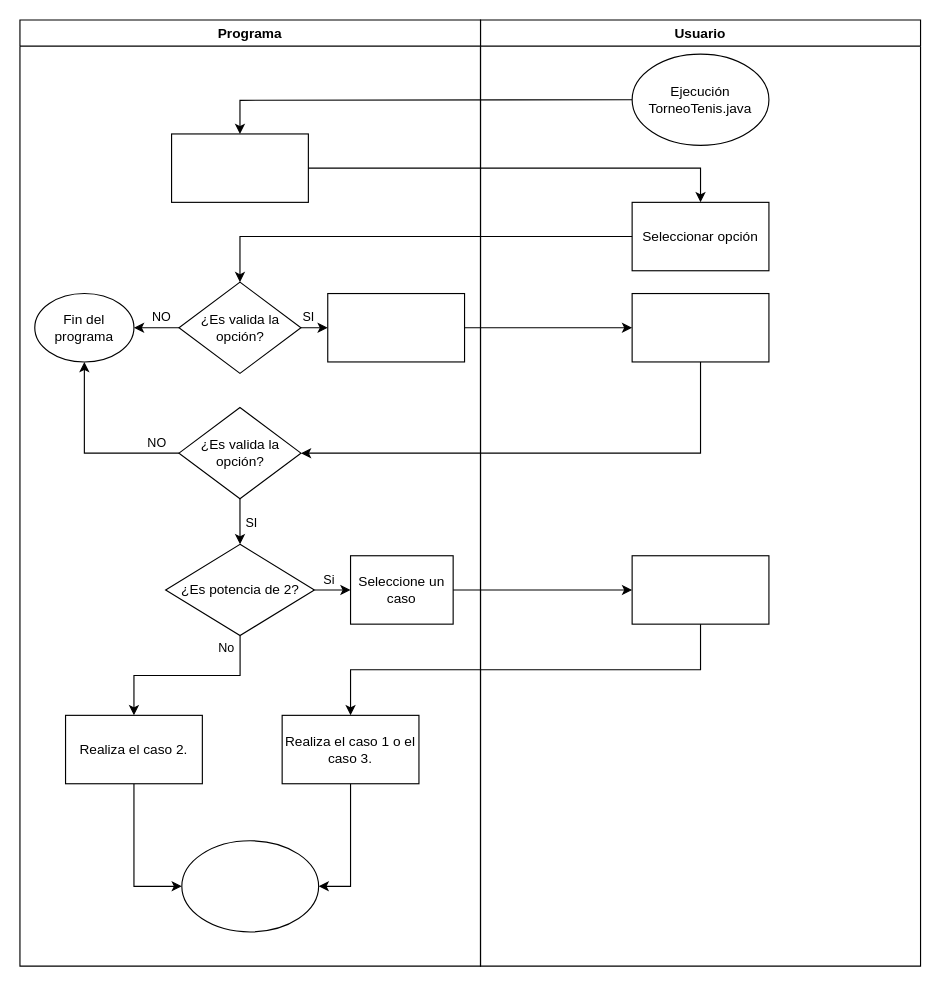
This 941x986 diagram has some shape labels left out. Here are the shapes that lost their labels. From the top down, the box of each, then its label:
(170, 133, 308, 202): Introduzca una opción
(327, 292, 465, 362): Introduzca el tamaño de N
(631, 292, 769, 362): Introducir un tamaño de N
(631, 555, 769, 624): Seleccionar caso 1 o caso 3
(181, 840, 319, 932): Mostrar por consola el resultado
